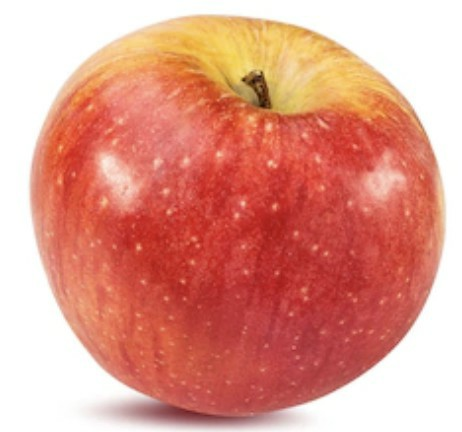normal_apple: (28, 14, 445, 415)
